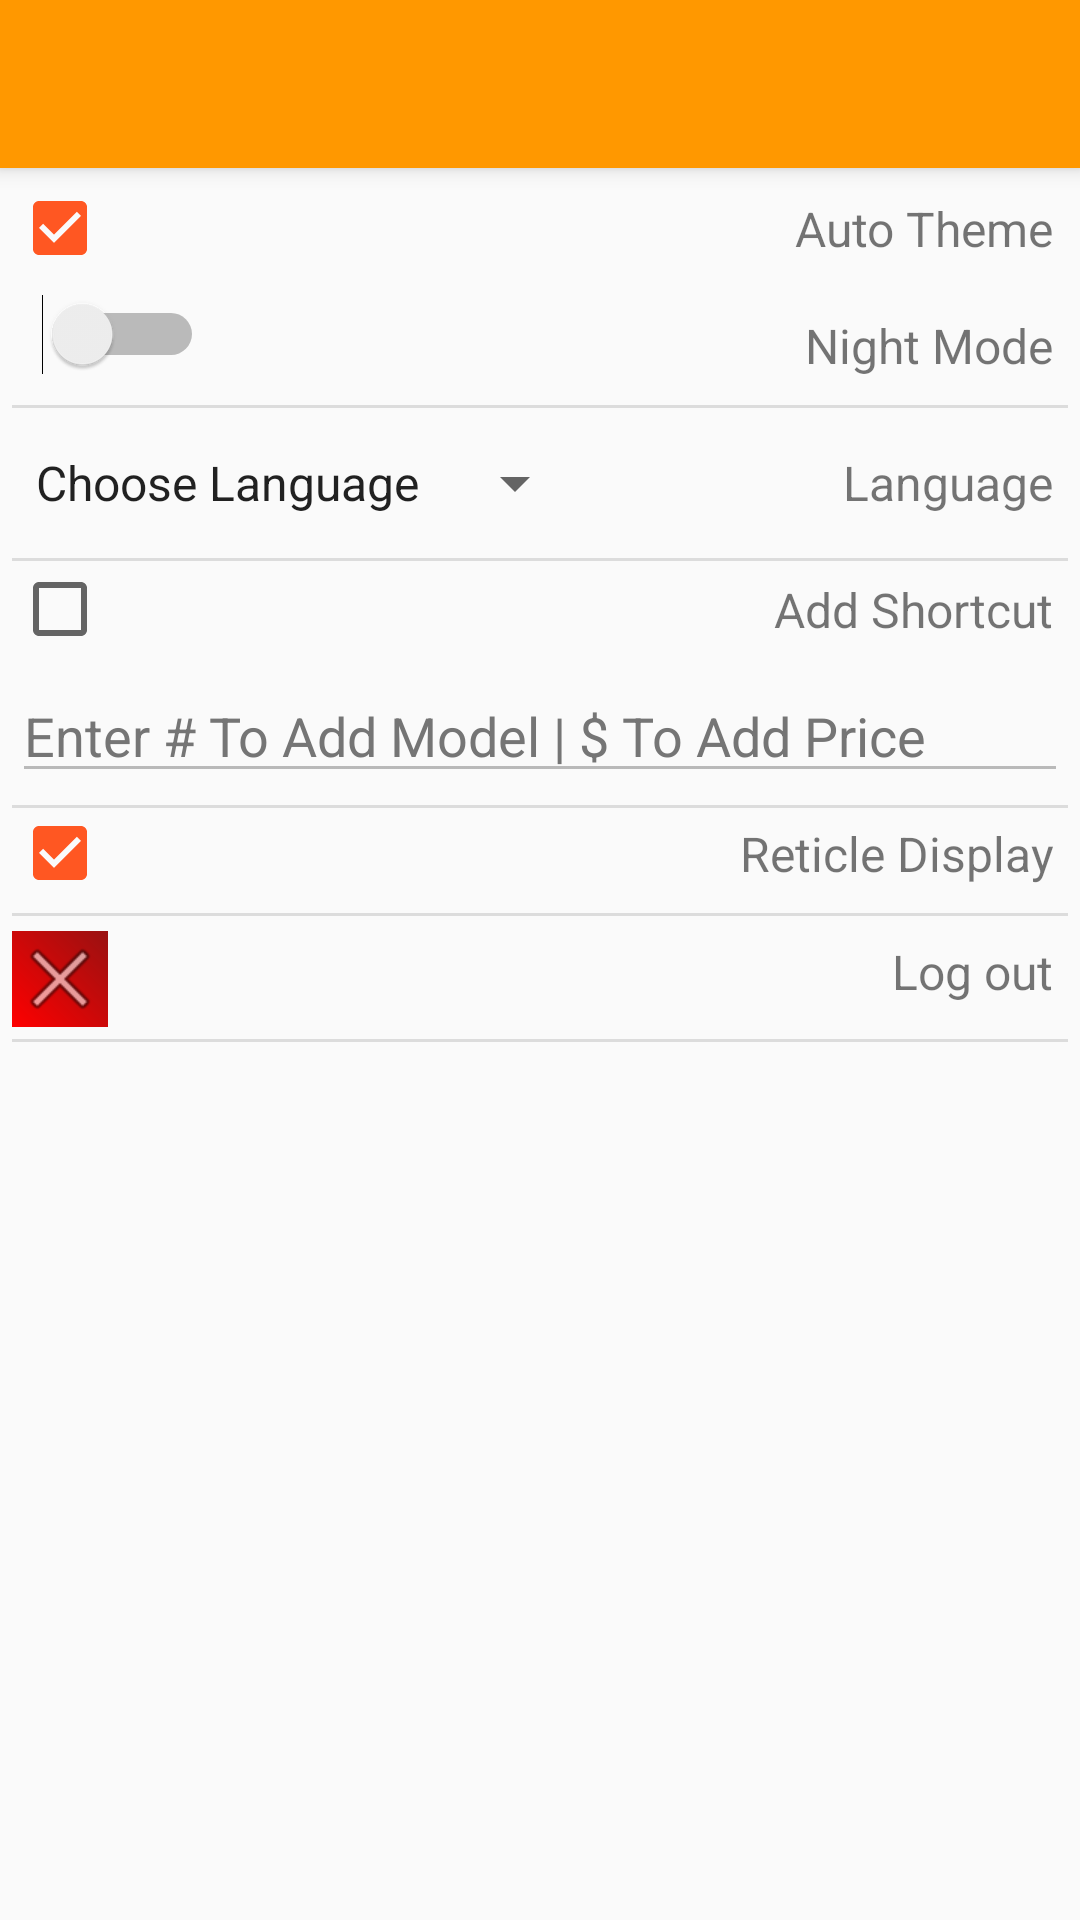

Named icons in this screenshot (1080×1920) and their centers, point (x, y):
close clear cancel: point (60, 979)
